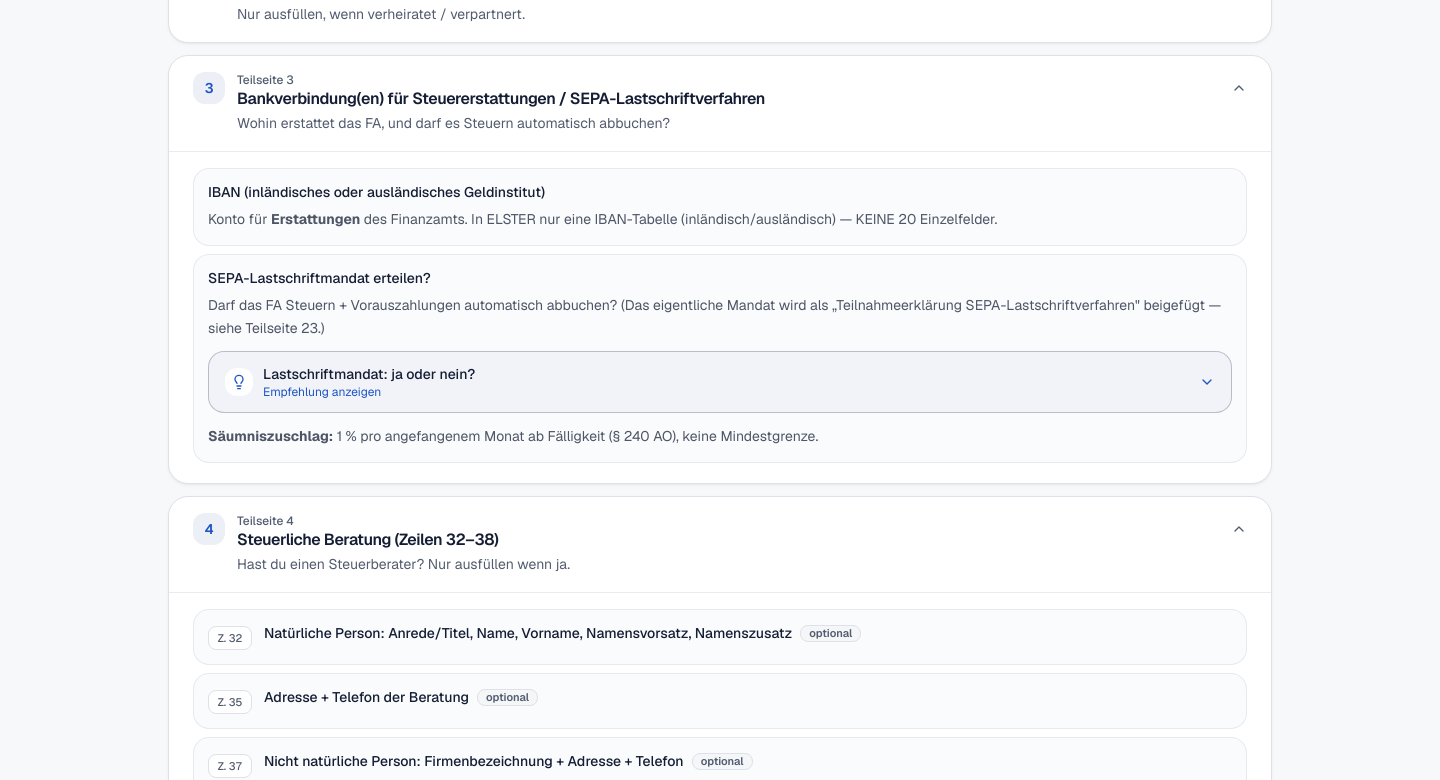
Scenario: FseWizard — Empfehlungs-Widgets › Empfehlungs-Widget öffnet sich beim Klick + zeigt Fragen
(page scrolled)
Click the button at (369, 374), box left=209, top=352, right=1231, bottom=412
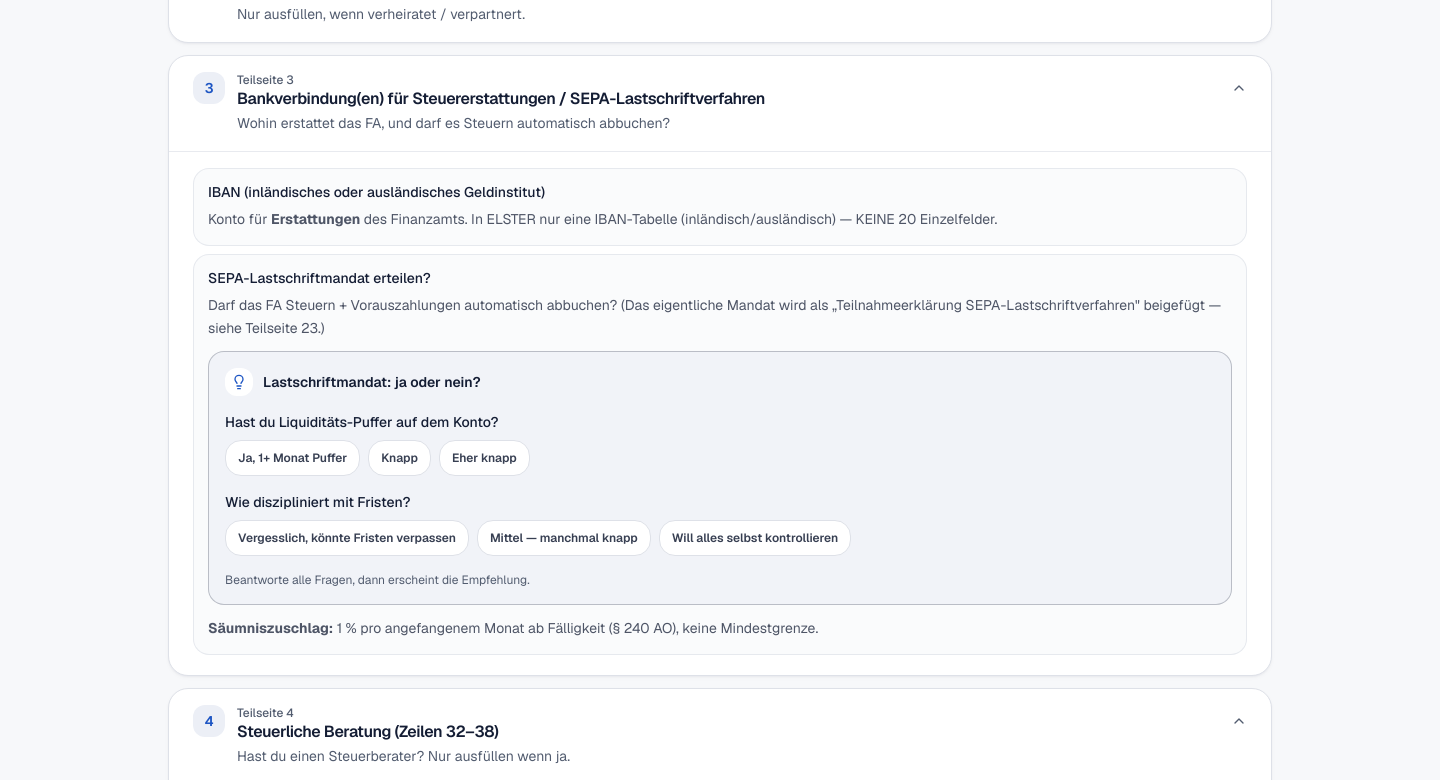
Now the text "Hast du Liquiditäts-Puffer auf dem Konto?" is shown, box left=225, top=413, right=498, bottom=431
